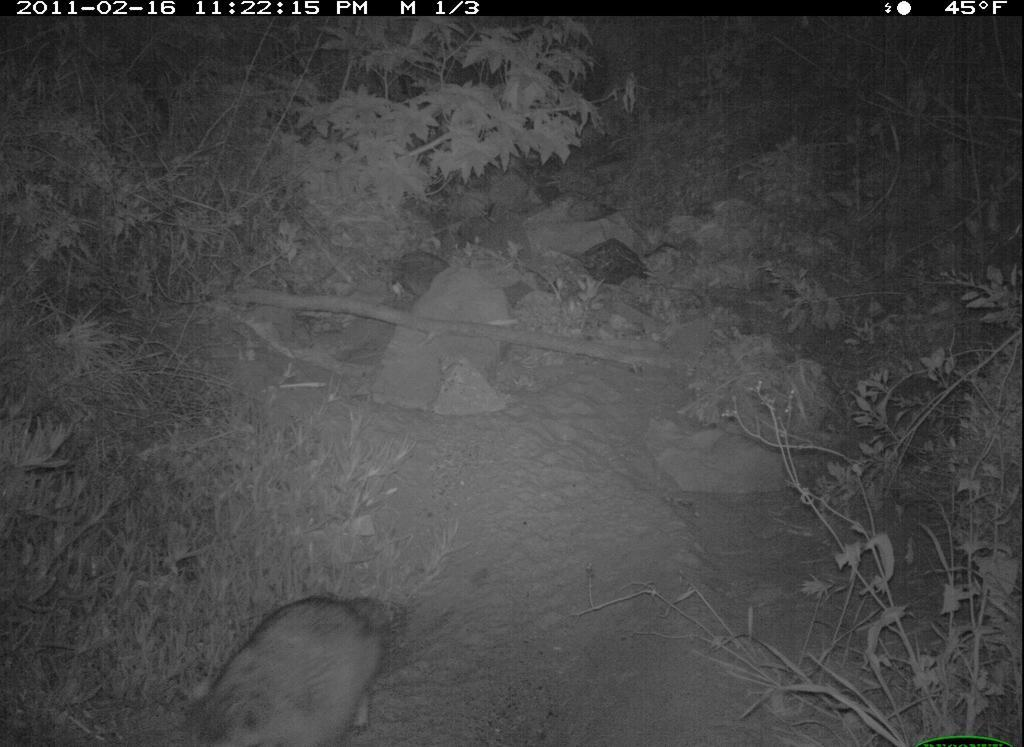raccoon: (181, 575, 418, 743)
